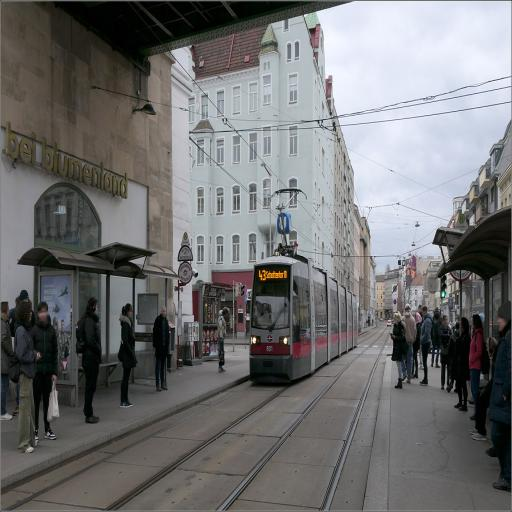ULF: (248, 254, 359, 384)
